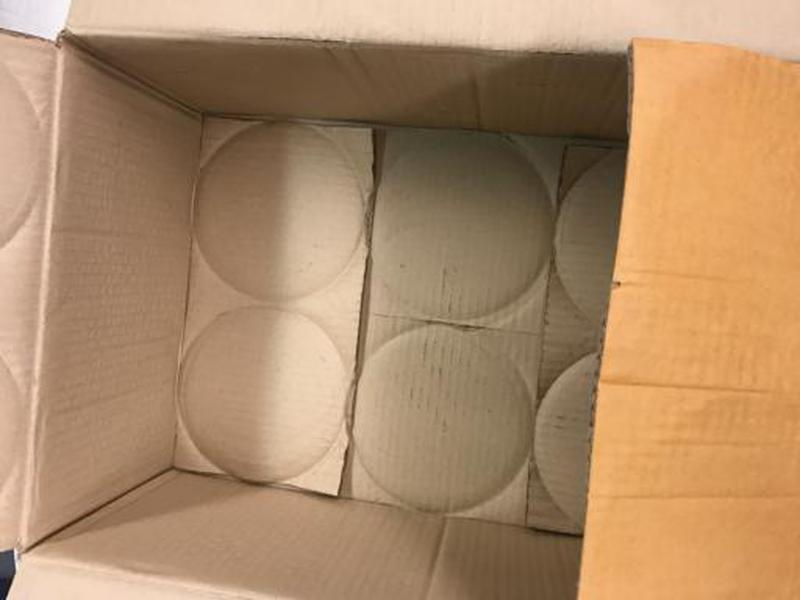cardboard: (3, 4, 797, 600)
